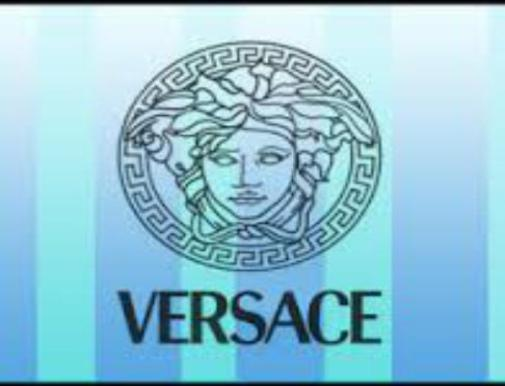VERSACE: (96, 17, 402, 358)
